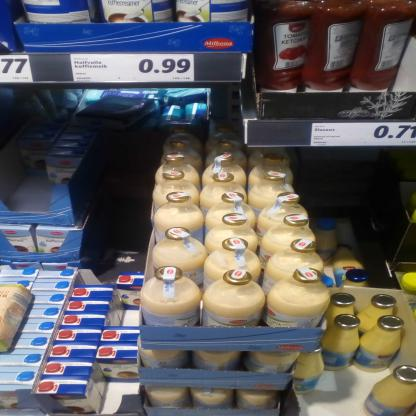prtg: (71, 55, 195, 83), (311, 123, 415, 147), (1, 56, 34, 83)
